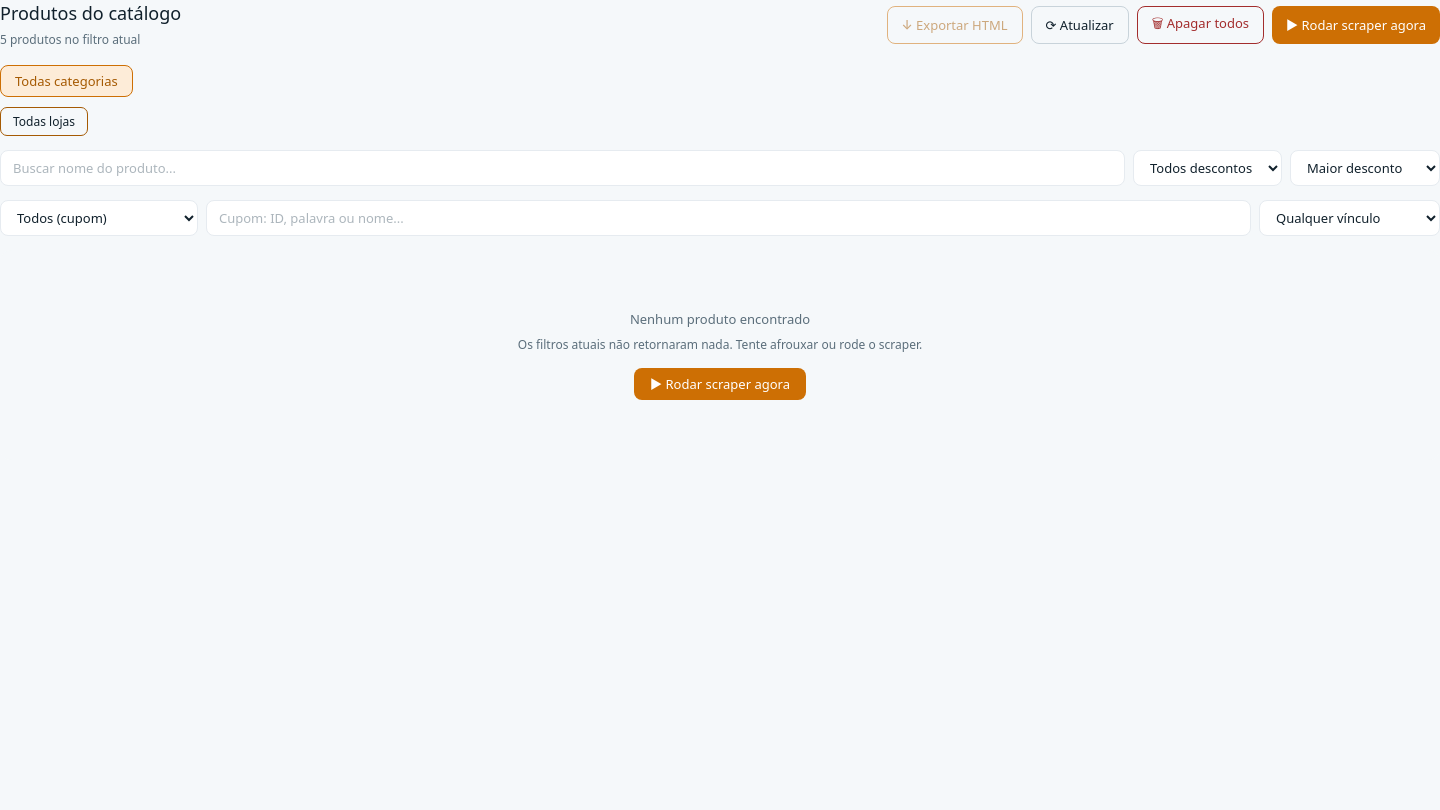
Test: Apagar todos os produtos › cancelar não apaga nada
This screenshot has width=1440, height=810.
Check: the text "5 produtos no filtro atual" is shown, box [0,31,140,48]
Click the button "🗑 Apagar todos": click(1200, 24) [1137,6,1264,44]
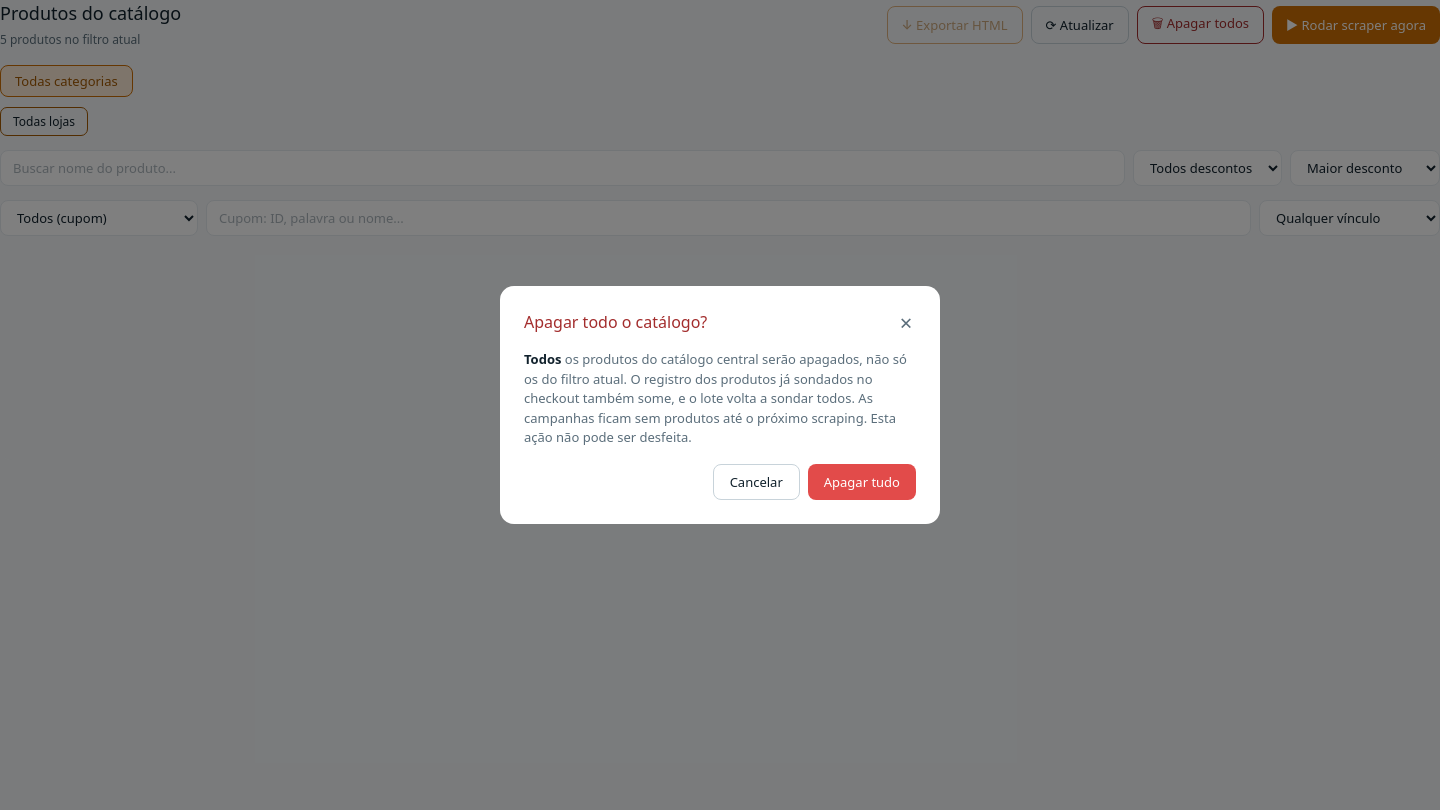
Click the button "Cancelar": click(756, 482) [713,464,800,500]
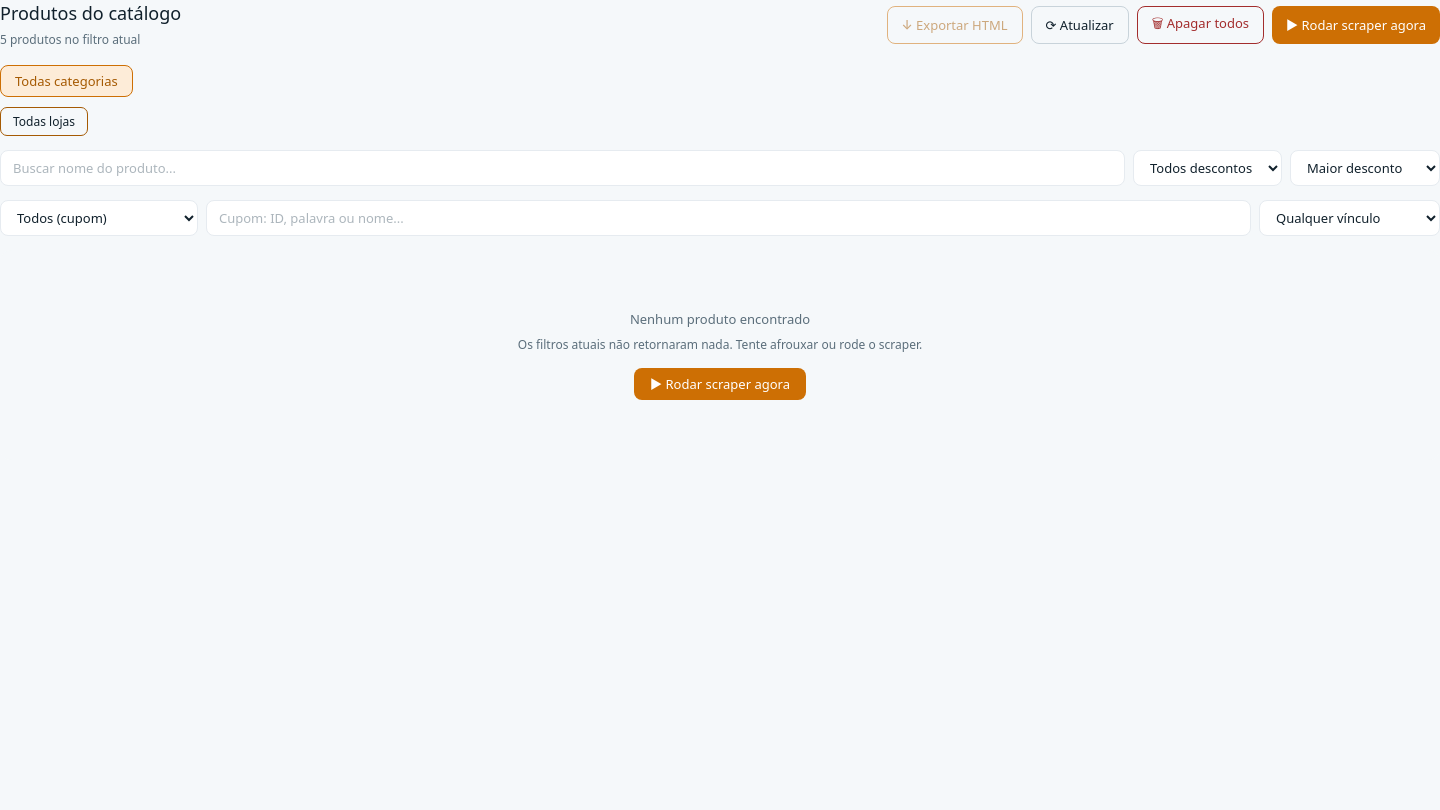
Check: the text "Apagar todo o catálogo?" is gone
